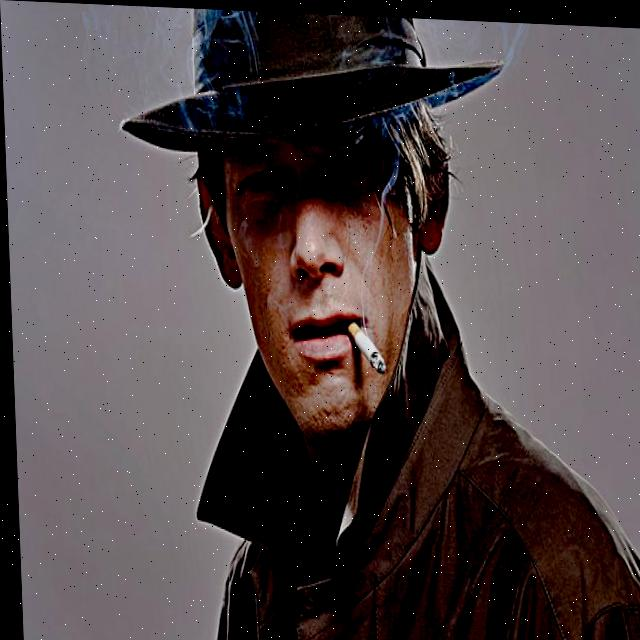cigarette: (344, 319, 383, 370)
